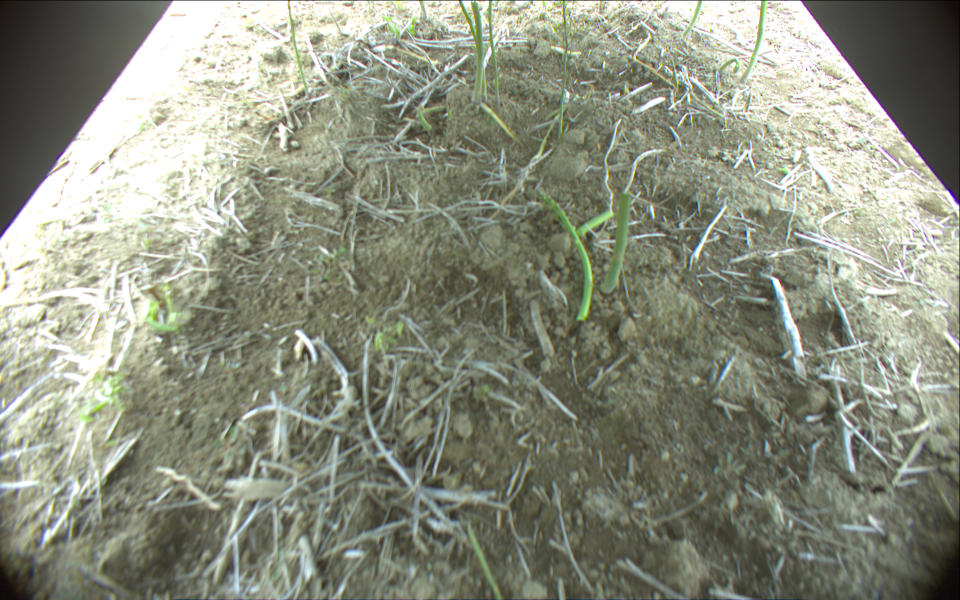aspa: (538, 188, 593, 321), (601, 192, 633, 297), (467, 522, 505, 600), (459, 1, 488, 101), (284, 1, 310, 98), (742, 1, 766, 80), (471, 1, 484, 104), (559, 1, 569, 134), (487, 1, 500, 103), (575, 207, 612, 238), (683, 1, 703, 37), (718, 58, 740, 79), (418, 1, 427, 20)
